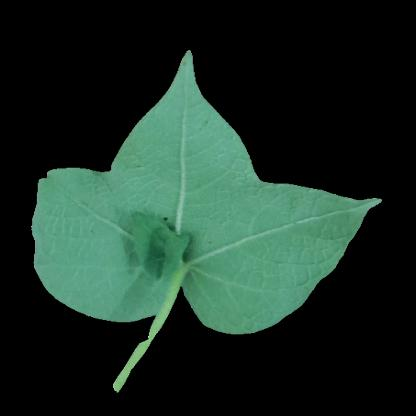curl_stage2: (209, 201, 351, 265), (45, 178, 114, 289), (142, 113, 223, 201), (207, 269, 307, 310)
leaf_enation: (118, 202, 204, 288)
